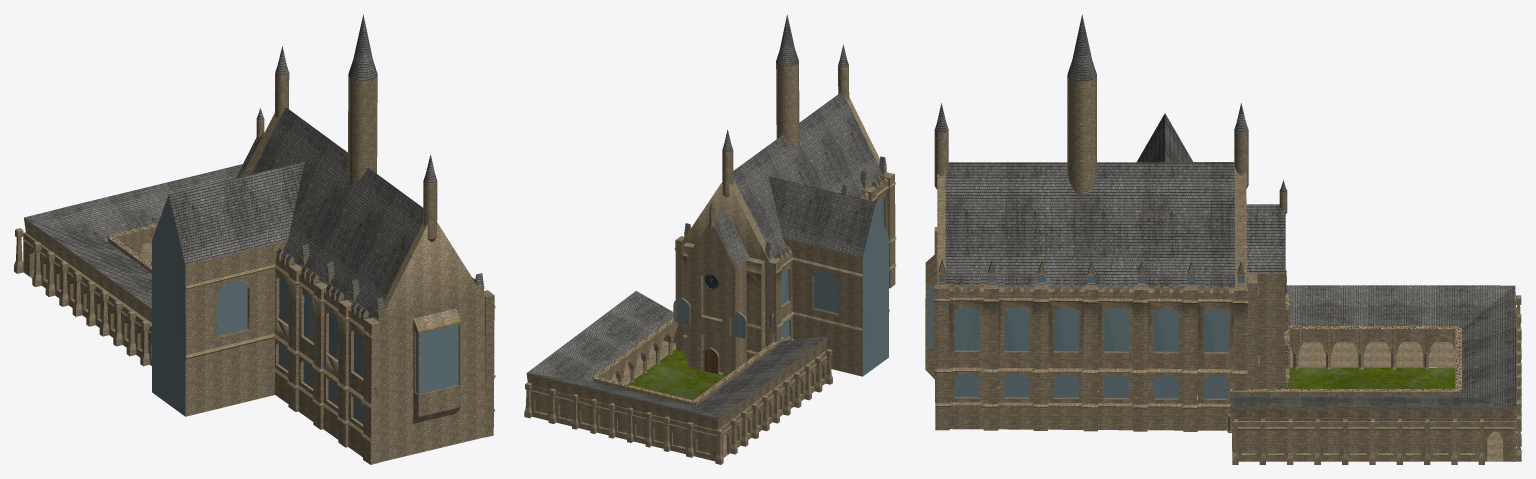
Rendered from school-court-near-v005.glb.
The picture shows the model from 3 angles, left to right: view 1: azimuth 30°, elevation 25°; view 2: azimuth 150°, elevation 25°; view 3: azimuth 270°, elevation 25°; orthographic projection. The views are drawn at different scales.
Parts seen in each view (by area): view 1: School_Near_Connection_corridor, School_Near_Roof, School_Near_Back_wall, School_Near_Side_wall, School_Near_Courtyard, School_Near_Side_roof, School_Near_Courtyard_wall, School_Near_Big_rooftower, School_Near_Side_wall_corner, School_Near_Small_rooftower_1, School_Near_Roof_windows, School_Near_Courtyard_wall.001 (+1 smaller); view 2: School_Near_Connection_corridor, School_Near_Courtyard, School_Near_Roof, School_Near_Front_wall, School_Near_Courtyard_wall.002, School_Near_Side_wall, School_Near_Courtyard_wall, School_Near_Side_roof, School_Near_Big_rooftower, School_Near_Side_wall_corner.001, School_Near_Side_wall_corner, School_Near_Small_rooftower_2 (+3 smaller); view 3: School_Near_Side_wall, School_Near_Roof, School_Near_Courtyard, School_Near_Courtyard_wall, School_Near_Front_wall, School_Near_Big_rooftower, School_Near_Side_wall_corner, School_Near_Side_roof, School_Near_Connection_corridor, School_Near_Back_wall, School_Near_Side_wall_corner.001, School_Near_Courtyard_wall.001 (+6 smaller).
Boxes of the visible parts, <box> form: School_Near_Connection_corridor: <box>151,161,321,416</box>; School_Near_Roof: <box>251,107,423,318</box>; School_Near_Back_wall: <box>378,296,485,462</box>; School_Near_Side_wall: <box>273,248,475,456</box>; School_Near_Courtyard: <box>24,164,242,323</box>; School_Near_Side_roof: <box>242,112,483,321</box>; School_Near_Courtyard_wall: <box>41,246,151,366</box>; School_Near_Big_rooftower: <box>347,14,377,184</box>; School_Near_Side_wall_corner: <box>361,290,495,464</box>; School_Near_Small_rooftower_1: <box>423,154,437,241</box>; School_Near_Roof_windows: <box>299,243,484,321</box>; School_Near_Courtyard_wall.001: <box>23,233,43,286</box>; School_Near_Connection_corridor: <box>760,176,889,376</box>; School_Near_Courtyard: <box>526,291,827,455</box>; School_Near_Roof: <box>733,92,882,258</box>; School_Near_Front_wall: <box>682,210,769,375</box>; School_Near_Courtyard_wall.002: <box>524,382,717,461</box>; School_Near_Side_wall: <box>675,174,889,350</box>; School_Near_Courtyard_wall: <box>733,349,832,447</box>; School_Near_Side_roof: <box>682,97,879,261</box>; School_Near_Big_rooftower: <box>776,15,799,147</box>; School_Near_Side_wall_corner.001: <box>682,242,765,360</box>; School_Near_Side_wall_corner: <box>884,172,896,288</box>; School_Near_Small_rooftower_2: <box>722,129,733,197</box>; School_Near_Side_wall: <box>949,279,1247,431</box>; School_Near_Roof: <box>945,162,1234,286</box>; School_Near_Courtyard: <box>1230,285,1516,461</box>; School_Near_Courtyard_wall: <box>1232,419,1478,464</box>; School_Near_Front_wall: <box>1246,204,1285,388</box>; School_Near_Big_rooftower: <box>1067,14,1096,195</box>; School_Near_Side_wall_corner: <box>934,227,951,430</box>; School_Near_Side_roof: <box>937,166,1246,286</box>; School_Near_Connection_corridor: <box>1131,113,1198,322</box>; School_Near_Back_wall: <box>925,252,936,379</box>; School_Near_Side_wall_corner.001: <box>1247,274,1259,388</box>; School_Near_Courtyard_wall.001: <box>1478,419,1515,464</box>.
Bounding box in the file's own units: 38.18 × 50.25 × 69.82.
Materials: 12 (4 with a texture image).
